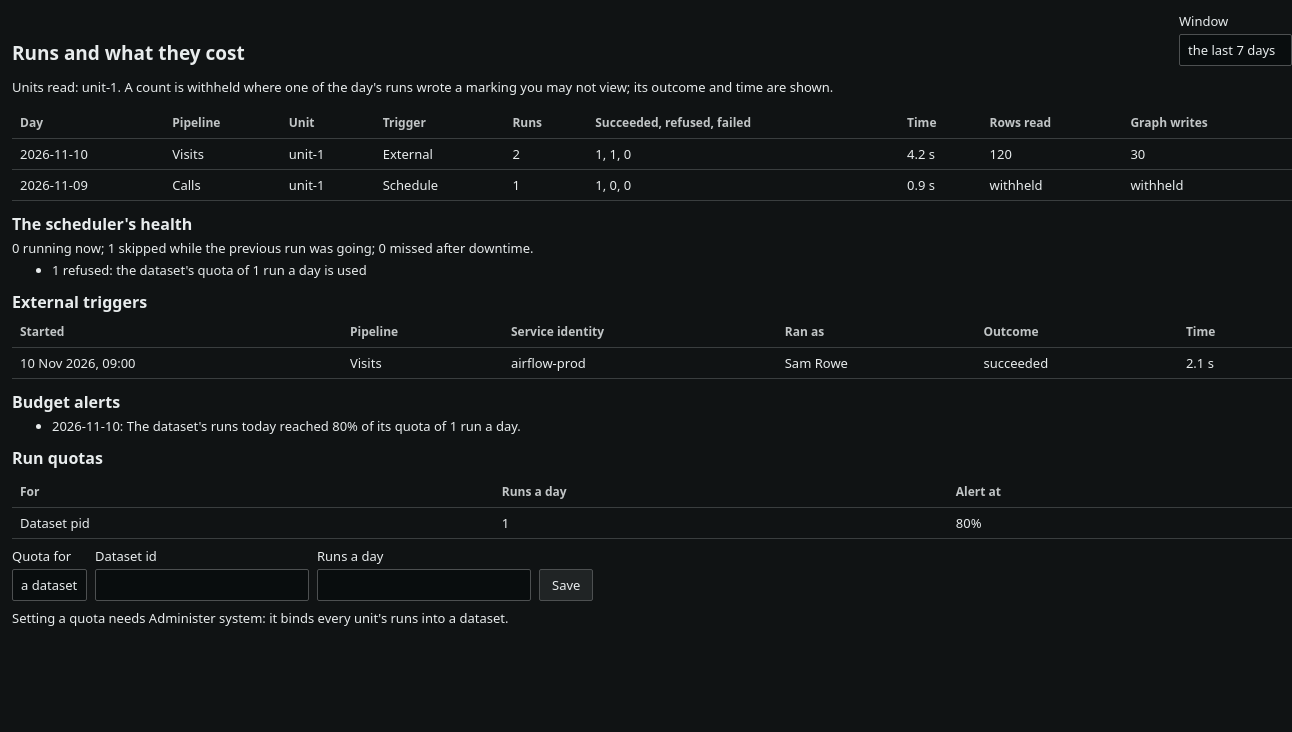
Test: OperationsFigures › saves a quota for the scope chosen, and reads the figures again
Check: the table named "Run quotas" is shown, box [12, 477, 1291, 539]
Select "a unit" in the dropdown labelled "Quota for" at (50, 585), box [12, 569, 87, 601]
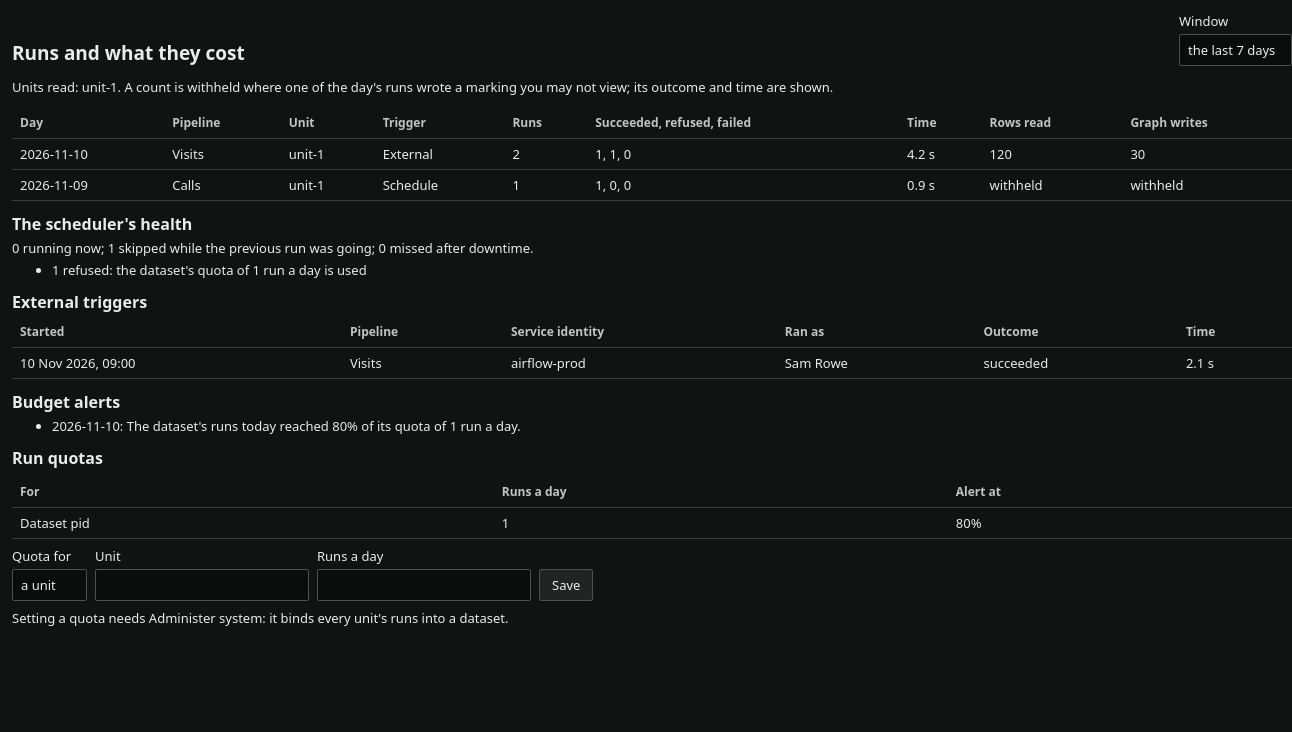
Type "unit-1" into the field labelled "Unit".
click(202, 585); type("unit-1")  # box [95, 569, 309, 601]
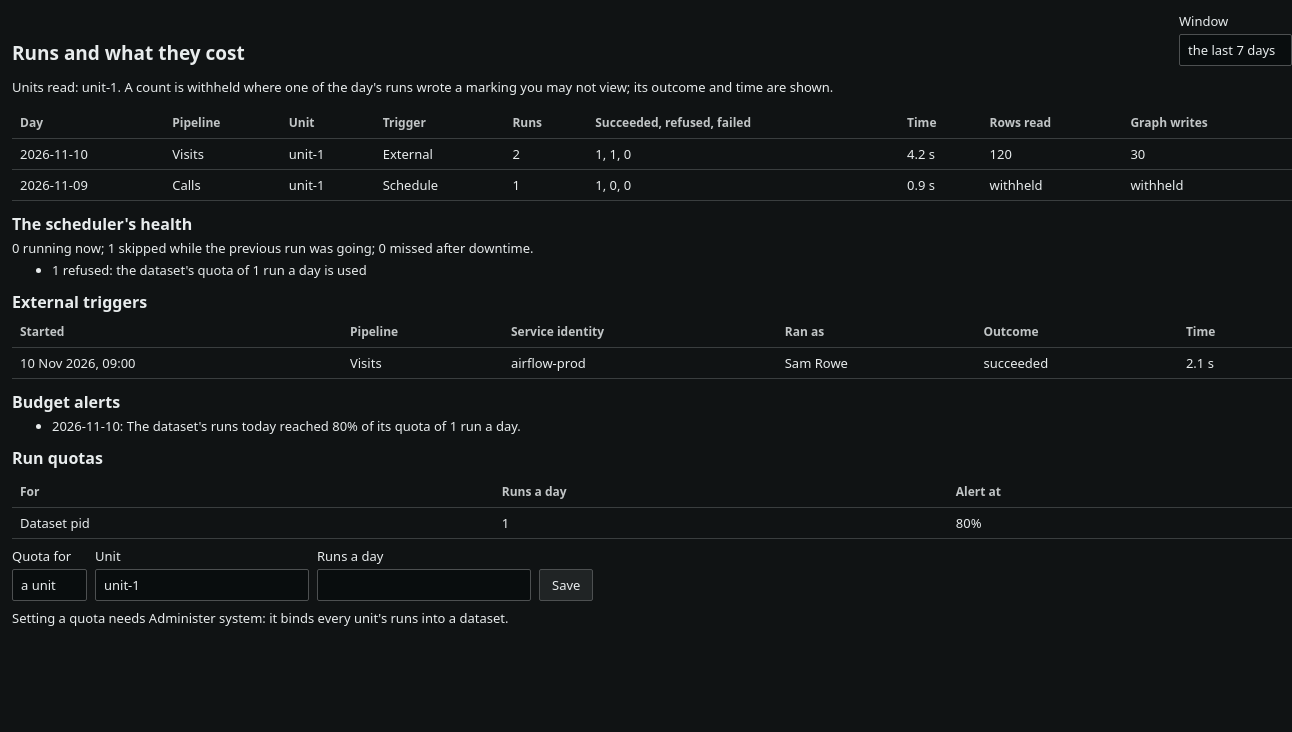
Type "5" into the number field labelled "Runs a day".
click(424, 585); type("5")  # box [317, 569, 531, 601]
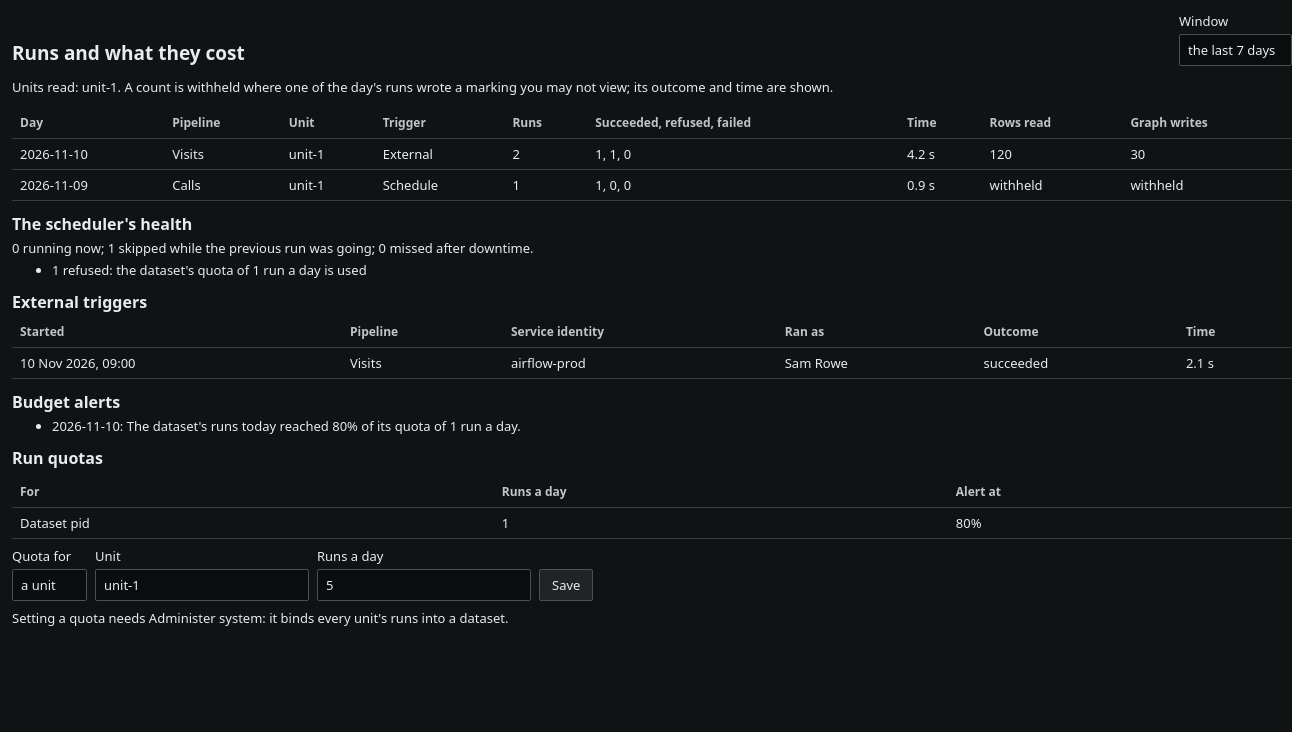
Click the button with aria-label "Save the run quota".
click(566, 585)  # box [539, 569, 593, 601]
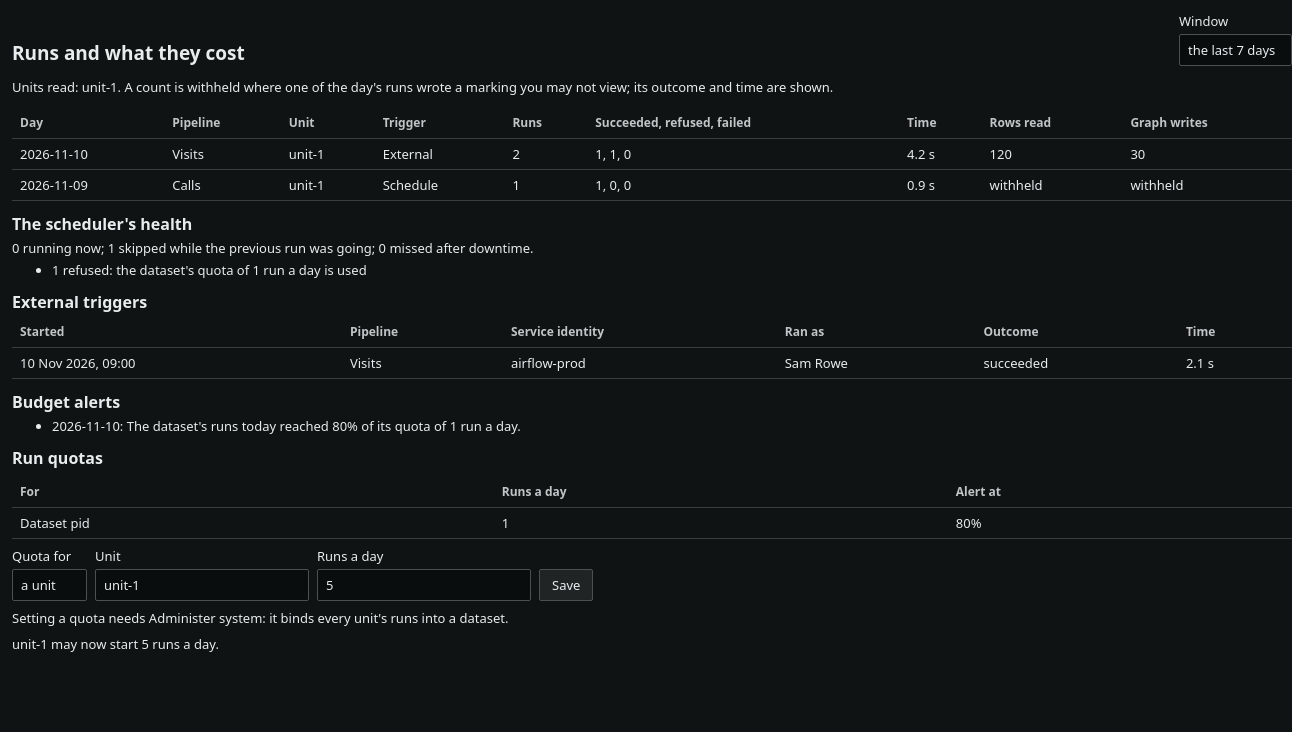
Check: the message reads "unit-1 may now start 5 runs a day.", box [12, 635, 219, 653]
